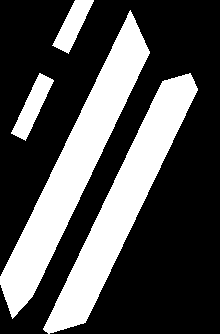parkingspot: (0, 10, 149, 318), (43, 73, 197, 333), (11, 73, 53, 140), (52, 0, 93, 53)
